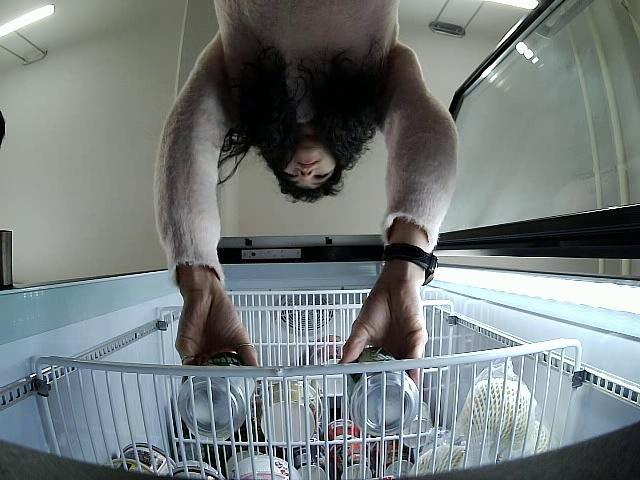12_chilsungCider: (177, 354, 256, 439), (344, 348, 419, 435)
